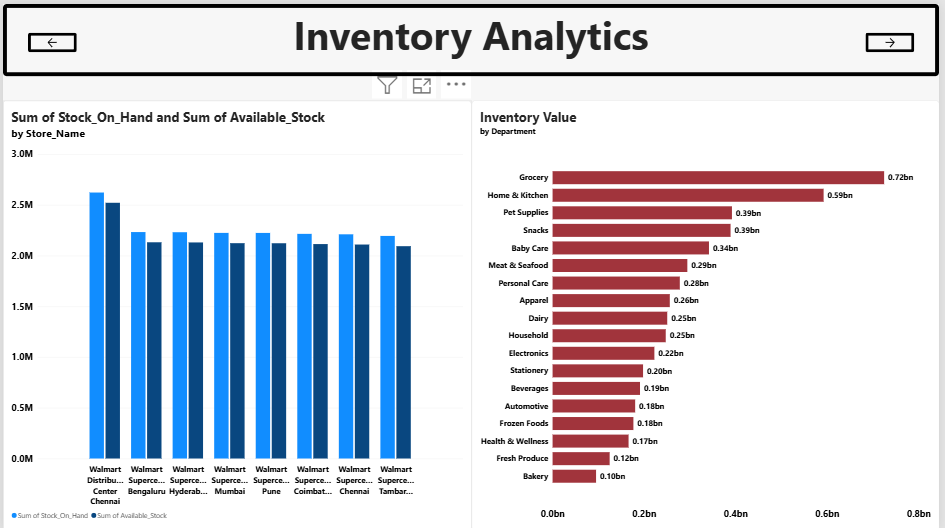

The page's visual inventory and layout, read from the dashboard file:
{"tool":"powerbi","page":{"name":"Page 3","canvas":[1920,1080],"ordinal":2},"visuals":[{"type":"clusteredColumnChart","fields":{"Category":["Stores.Store_Name"],"Y":["Sum(Inventory.Stock_On_Hand)","Sum(Inventory.Available_Stock)"]},"box":[0,197.3,960.9,883.1],"z":0},{"type":"textbox","box":[0,0,1920.1,148.4],"z":1},{"type":"clusteredBarChart","fields":{"Category":["Products.Department"],"Y":["Inventory.Inventory Value"]},"box":[961,197,959,883],"z":2},{"type":"actionButton","box":[1768,59.7,100,40],"z":3},{"type":"actionButton","box":[52.5,59.7,100,40],"z":4}]}

Visuals, with their boxes in screenshot pixels (x1, y1, x2, y2), scaled from the page's 1920x1080 canvas onto the 945x528 screenshot:
clusteredColumnChart - Stores.Store_Name x Sum(Inventory.Stock_On_Hand): x1=0 y1=96 x2=473 y2=527
textbox: x1=0 y1=0 x2=944 y2=73
clusteredBarChart - Products.Department x Inventory.Inventory Value: x1=473 y1=96 x2=944 y2=527
actionButton: x1=870 y1=29 x2=919 y2=49
actionButton: x1=26 y1=29 x2=75 y2=49
